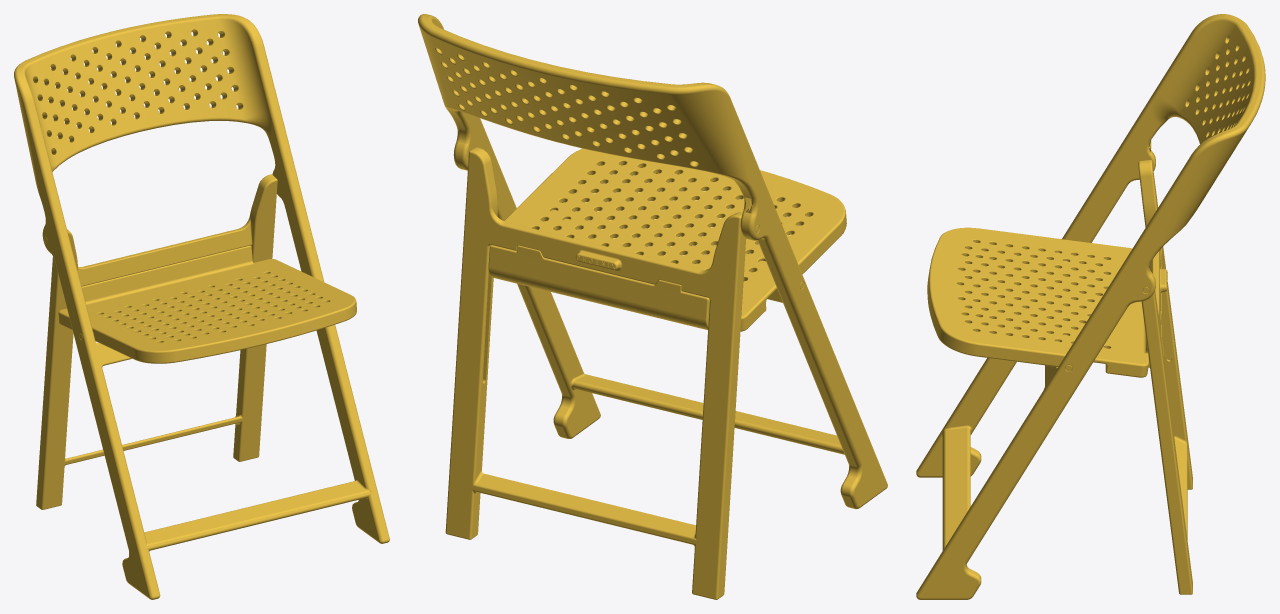
File: phoenix.glb
3 renders of one model, left to right at view 1: azimuth 30°, elevation 25°; view 2: azimuth 150°, elevation 25°; view 3: azimuth 270°, elevation 25°, orthographic. The views are drawn at different scales.
Parts seen in each view (by area): view 1: Fillet64, Fillet83, Body-MoveCopy14; view 2: Fillet64, Body-MoveCopy14, Fillet83; view 3: Fillet64, Fillet83, Body-MoveCopy14.
Part boxes in pixels (bbox=[...]): Fillet64: bbox=[14, 14, 389, 599]; Fillet83: bbox=[58, 245, 356, 363]; Body-MoveCopy14: bbox=[36, 174, 277, 509]; Fillet64: bbox=[418, 14, 887, 509]; Body-MoveCopy14: bbox=[445, 147, 759, 599]; Fillet83: bbox=[488, 148, 846, 331]; Fillet64: bbox=[916, 14, 1265, 599]; Fillet83: bbox=[927, 227, 1164, 377]; Body-MoveCopy14: bbox=[1138, 160, 1192, 594].
Size of the model in its own units: 0.45 by 0.76 by 0.519.
